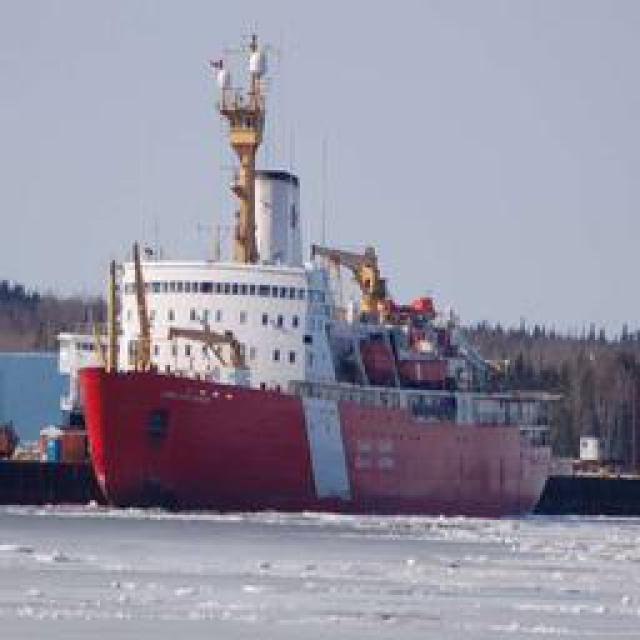Ship: (74, 232, 577, 520)
